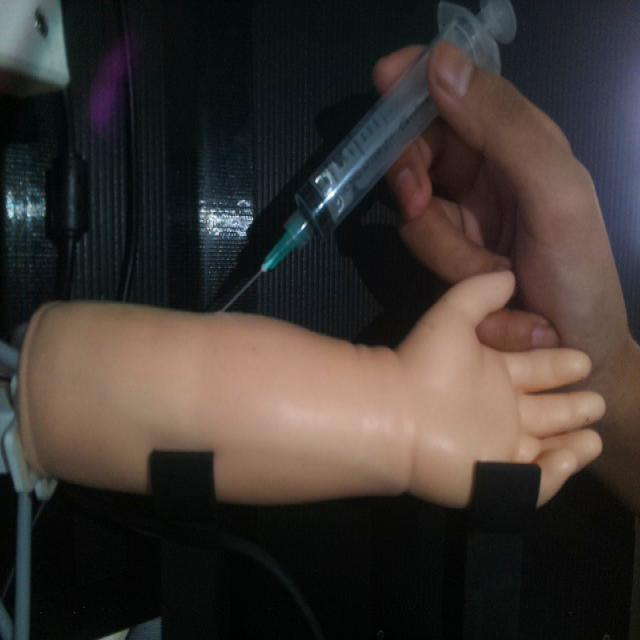Above 30 degrees: (217, 0, 520, 316)
